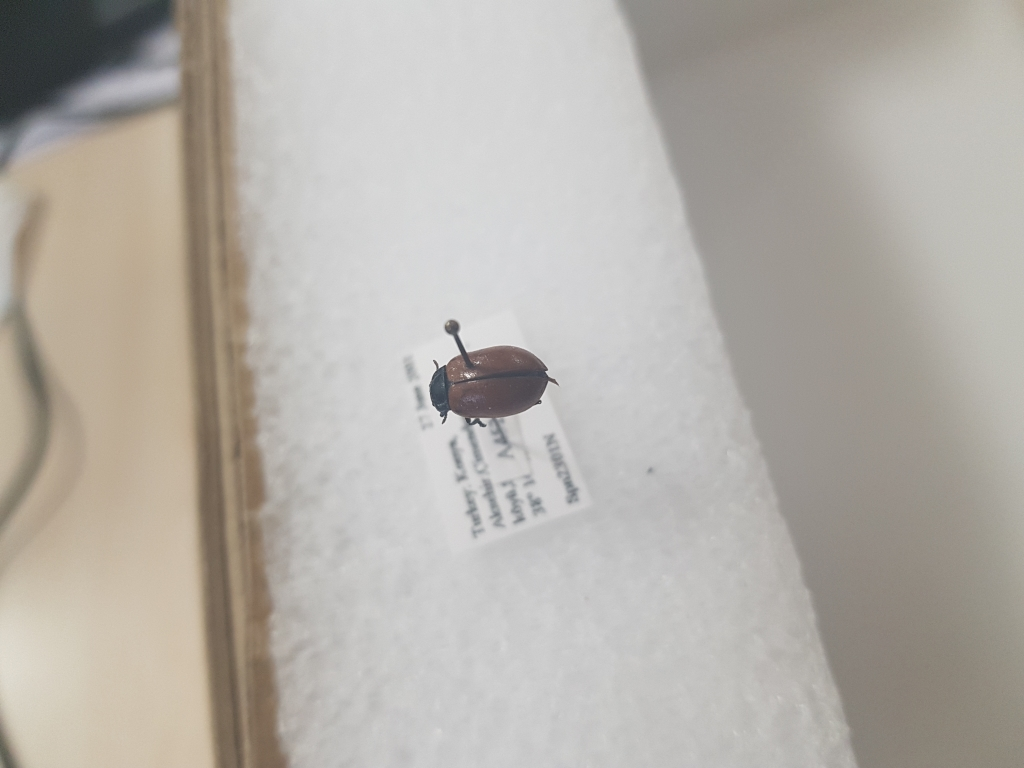Chrysomela_populi: (427, 343, 561, 428)
